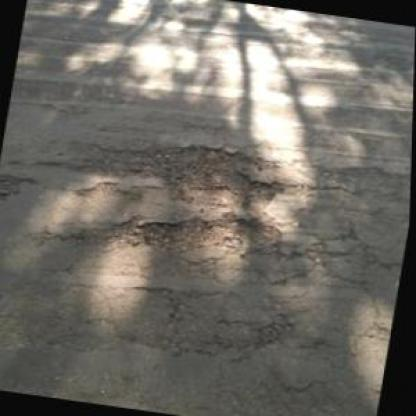pothole: (108, 198, 289, 276), (130, 136, 290, 219)
